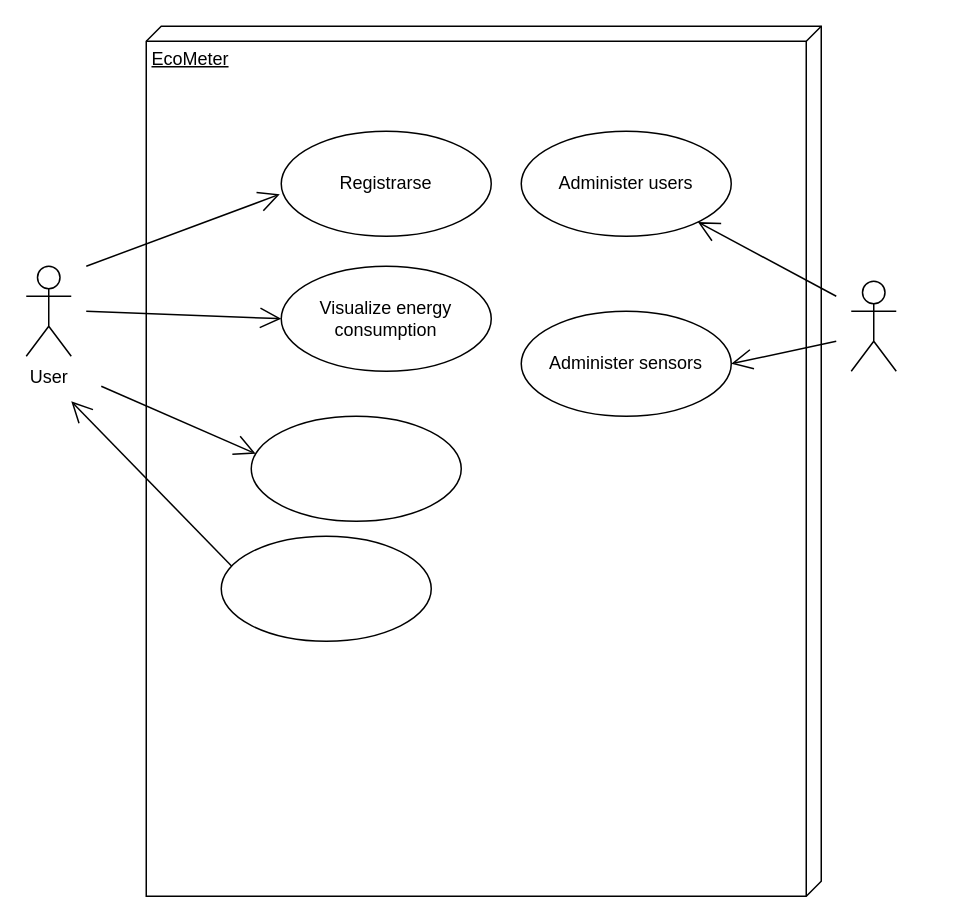
Some shapes in this 953 by 923 pixel diagram are drawn without their labels. The centre of each missing label's shape, as x and y in pixels:
"Administrator" belongs at (873,325).
"Send notifications" belongs at (325,588).
"Visualize consumption history" belongs at (355,468).
